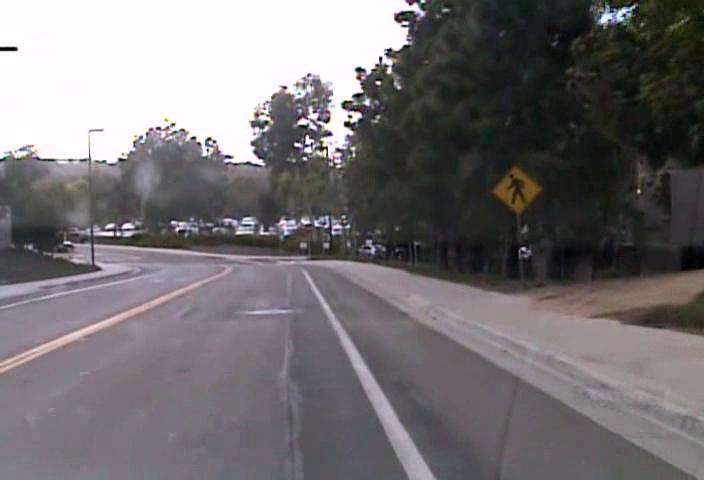pedestrianCrossing: (490, 163, 543, 215)
